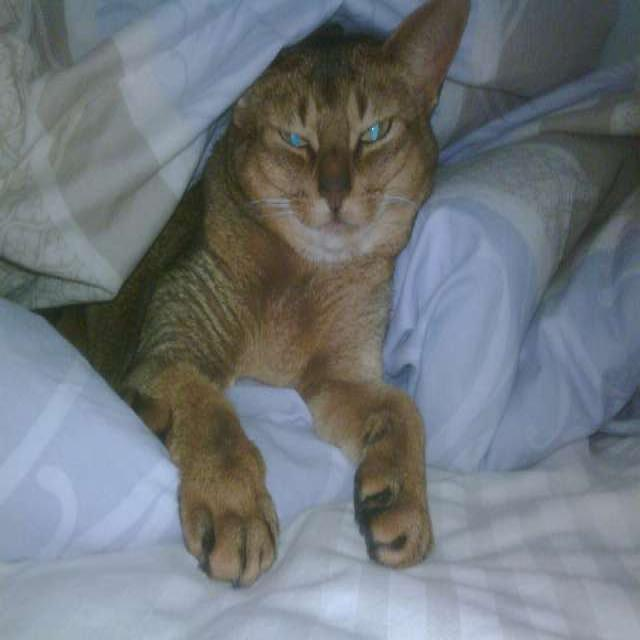Abyssinian: (223, 0, 469, 265)
